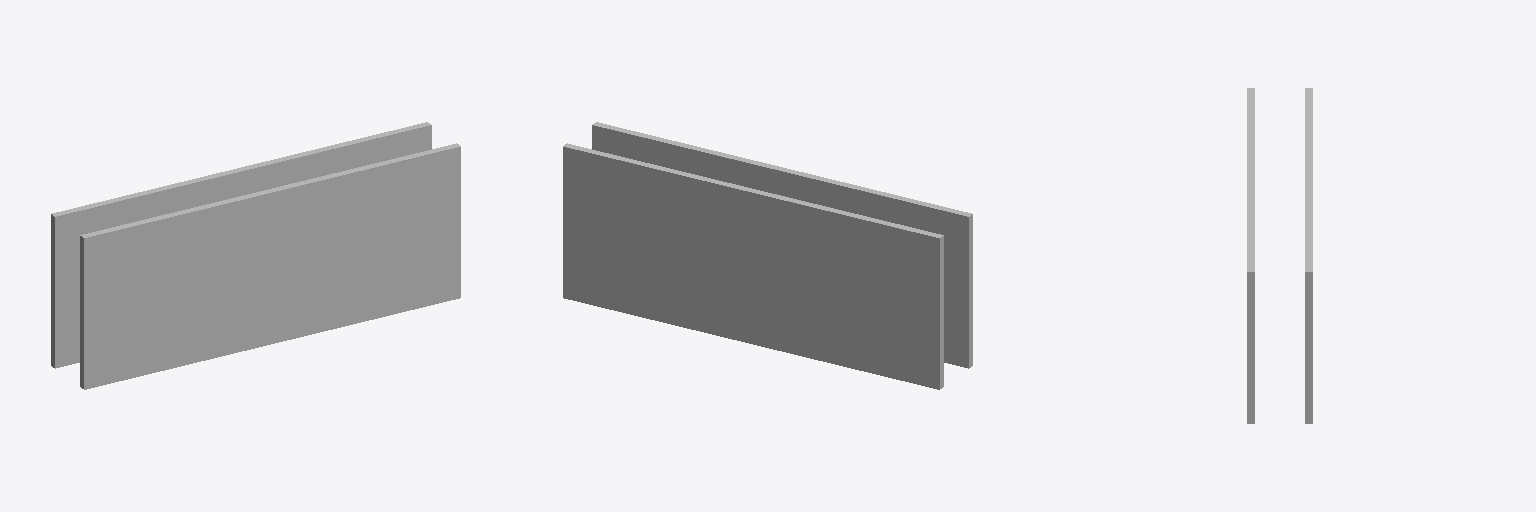
The model's file is InvisibleWalls.obj.
3 renders of one model, left to right at view 1: azimuth 30°, elevation 25°; view 2: azimuth 150°, elevation 25°; view 3: azimuth 270°, elevation 25°, orthographic.
Parts seen in each view (by area): view 1: InvisibleWalls; view 2: InvisibleWalls; view 3: InvisibleWalls.
Part boxes in pixels (x1,y1,x2,y2): InvisibleWalls: (51, 122, 460, 389); InvisibleWalls: (563, 122, 972, 389); InvisibleWalls: (1247, 88, 1312, 423).
Size of the model in its own units: 52 by 20 by 8.